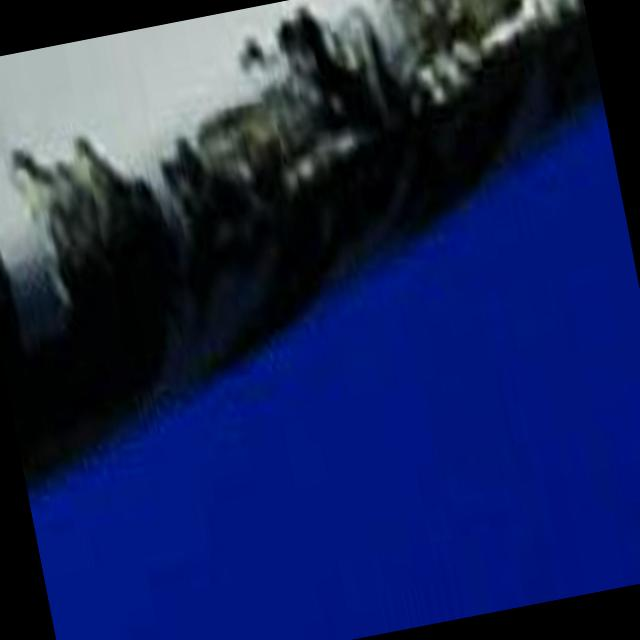corrosion: (0, 99, 338, 456), (288, 0, 598, 250)
